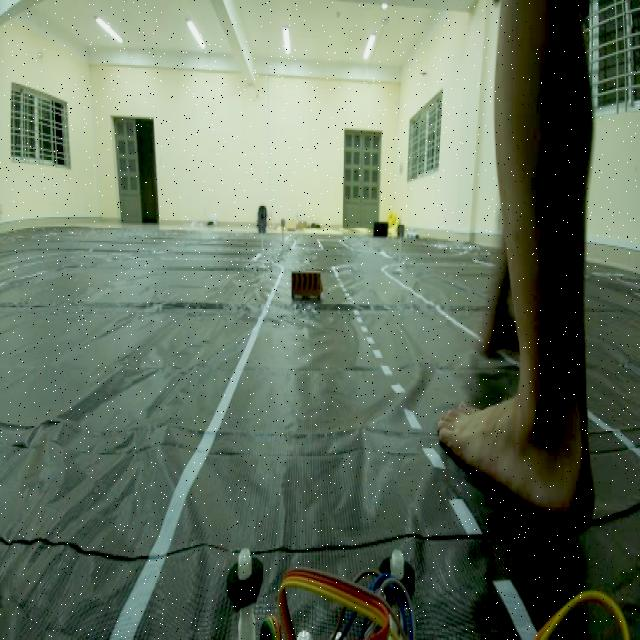roadblock: (285, 261, 327, 309)
